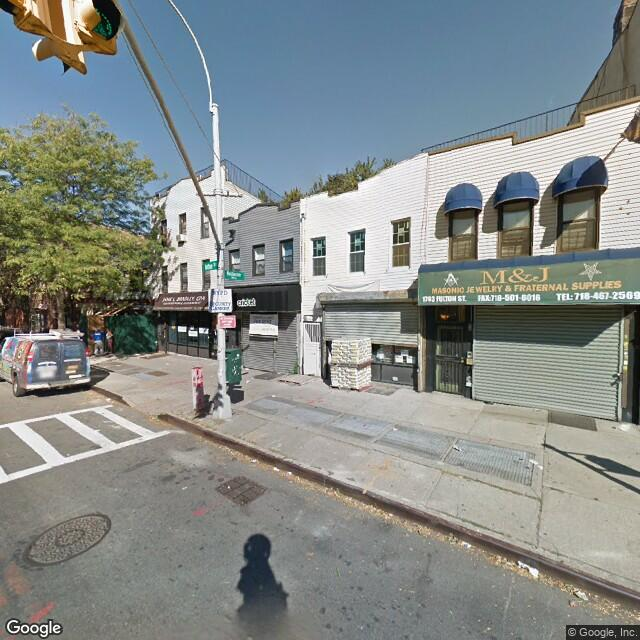litter: (246, 434, 631, 602)
